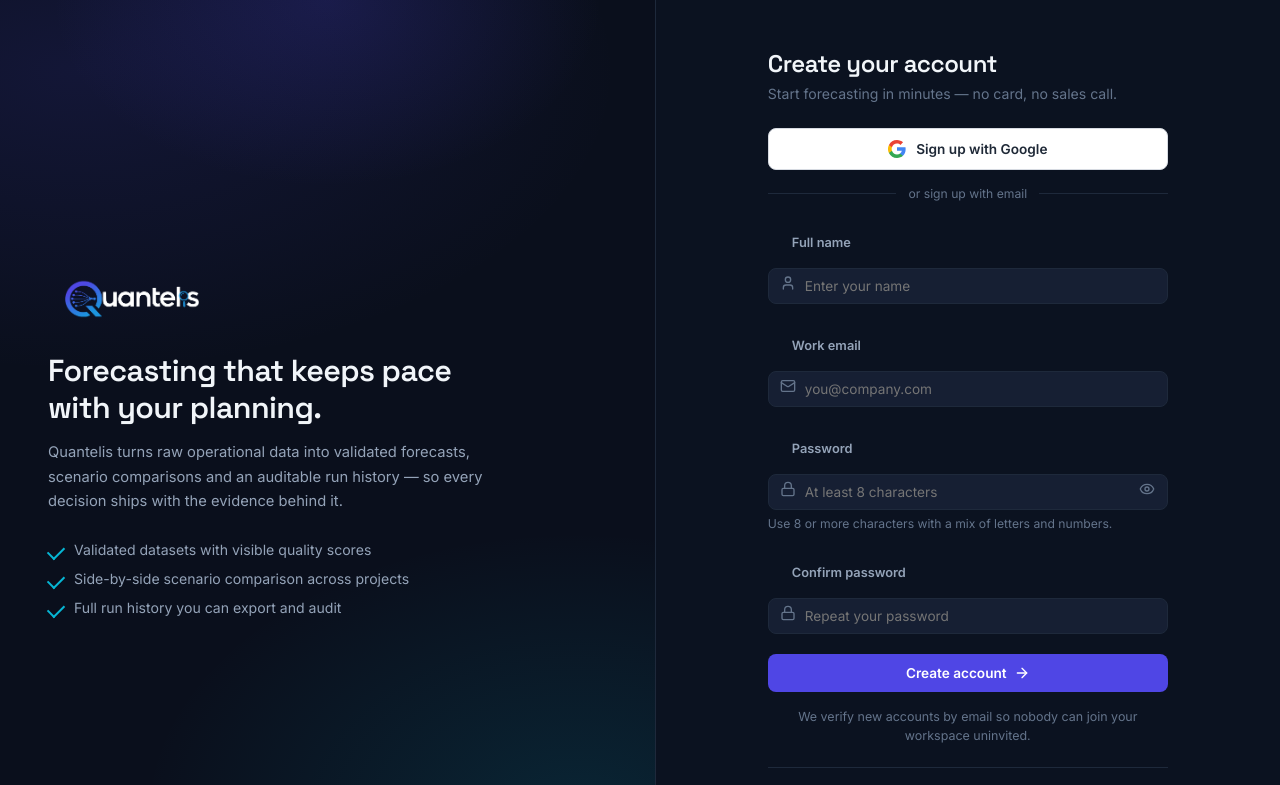
Test: SignUpPage › reports every empty field on a blank submit
The width and height of the screenshot is (1280, 785).
What coordinates should you click on to do the following:
click the button "Create account"
I would click on:
 (968, 673)
Its box is x1=768 y1=654 x2=1168 y2=692.
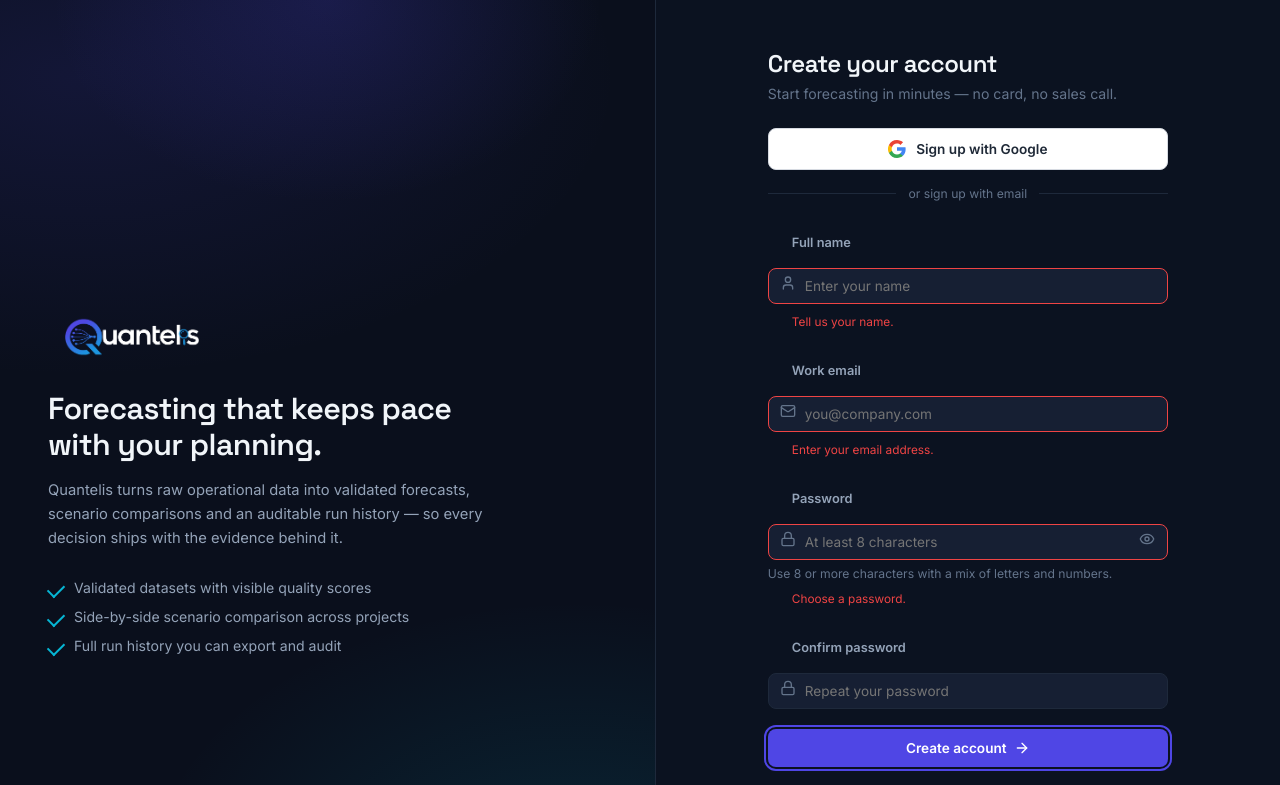
Now the text "Tell us your name." is shown, box x1=792 y1=315 x2=894 y2=329
Now the text "Enter your email address." is shown, box x1=792 y1=443 x2=934 y2=457
Now the text "Choose a password." is shown, box x1=792 y1=592 x2=906 y2=606
